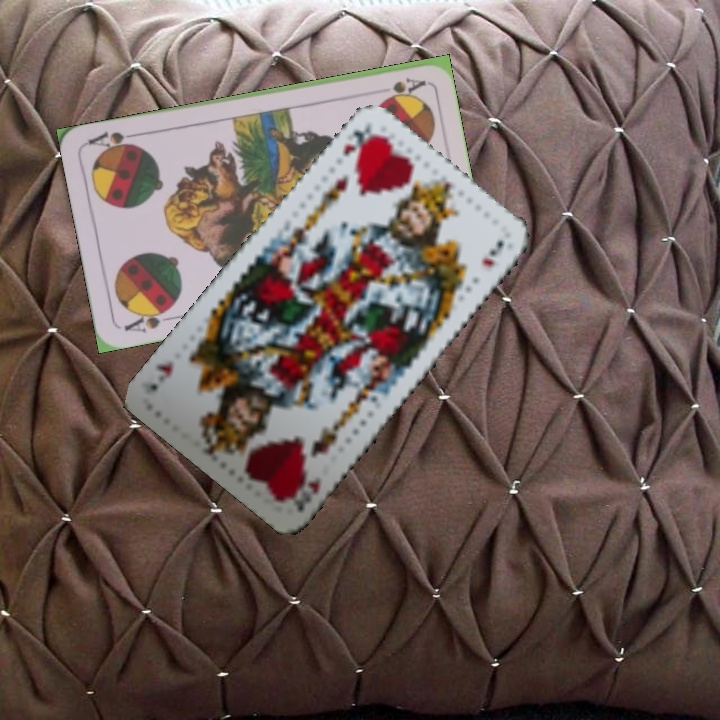HK: (282, 469, 324, 515), (339, 122, 376, 159)
SA: (120, 303, 177, 335), (381, 74, 428, 101)
